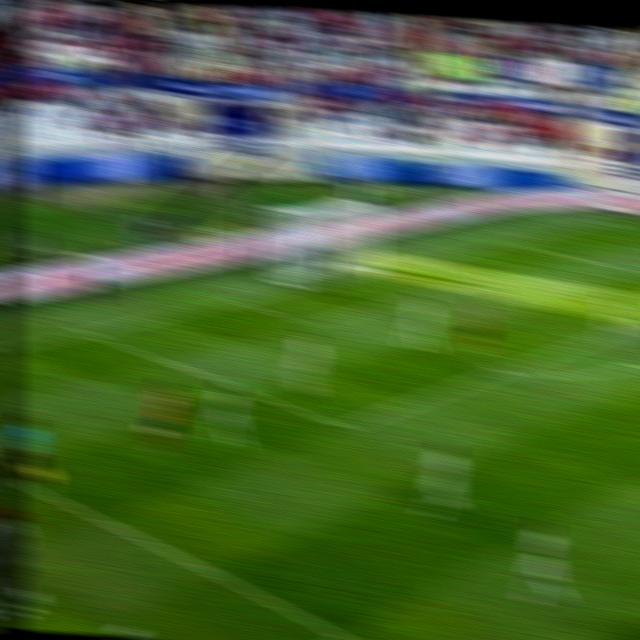bigarea_bottom_inner: (326, 408, 363, 442)
bigarea_bottom_outter: (70, 318, 106, 347)
bigarea_top_outter: (496, 231, 525, 249)
bottom_arc_area_intersection: (487, 356, 521, 385)
corner: (588, 209, 617, 227)
smallarea_bottom_inner: (292, 312, 323, 334)
smallarea_bottom_outter: (223, 287, 256, 313)
smallarea_top_inner: (471, 266, 505, 290)
smallarea_top_outter: (406, 250, 439, 271)
top_arc_area_intersection: (624, 312, 640, 334)
